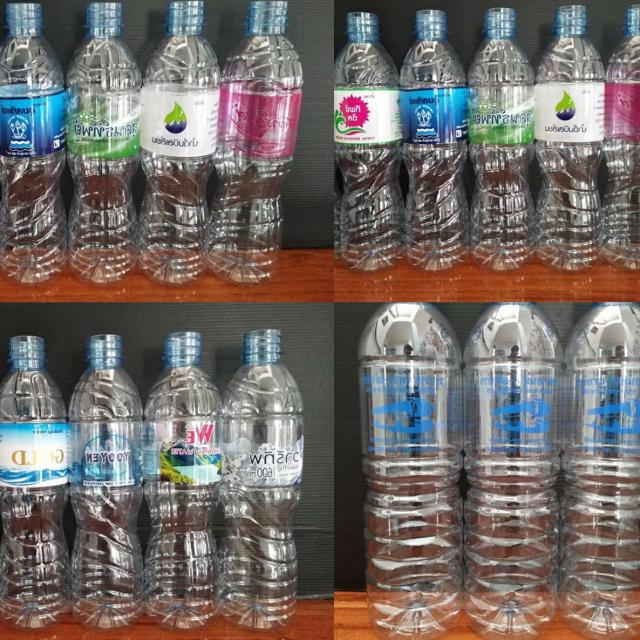plastik: (358, 304, 462, 640), (464, 304, 563, 640), (559, 304, 640, 640), (209, 0, 303, 285), (221, 329, 303, 630), (138, 0, 221, 285), (144, 332, 221, 628), (68, 335, 144, 629), (67, 3, 141, 285), (0, 336, 71, 629), (0, 3, 67, 285), (334, 12, 406, 272), (535, 5, 605, 270), (400, 9, 469, 271), (468, 8, 535, 271), (602, 4, 640, 270)
